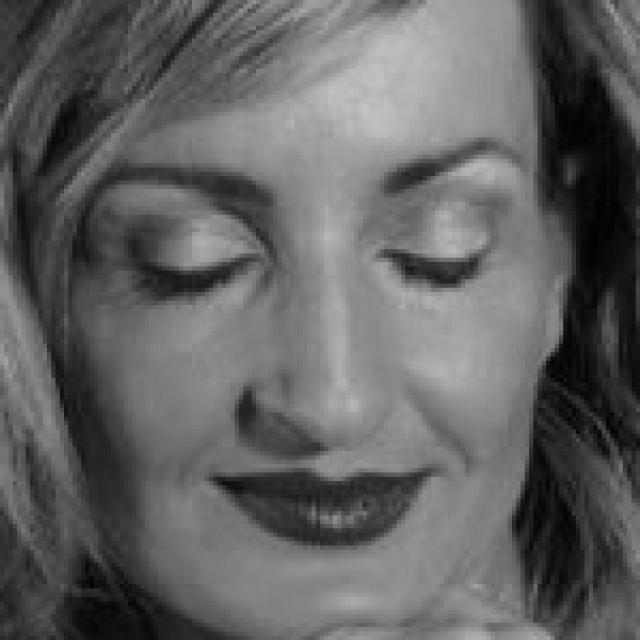real: (39, 0, 547, 640), (123, 202, 499, 312)
